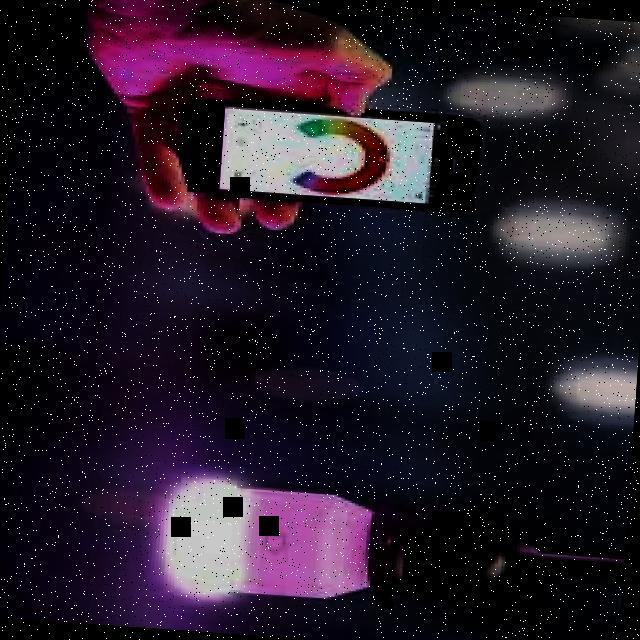light_bulb: (140, 466, 540, 630)
